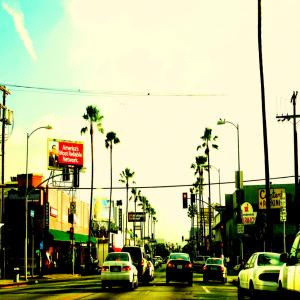Vehicle-registration-plate: (111, 266, 123, 274), (176, 265, 183, 270), (212, 267, 218, 272)
